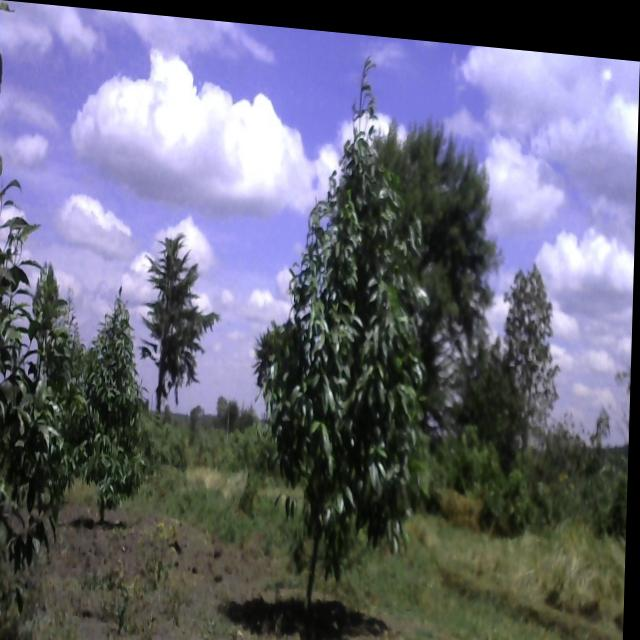Hass Avocado: (260, 44, 433, 634), (83, 288, 154, 540)
cedrus: (393, 78, 512, 373), (144, 230, 228, 412)
